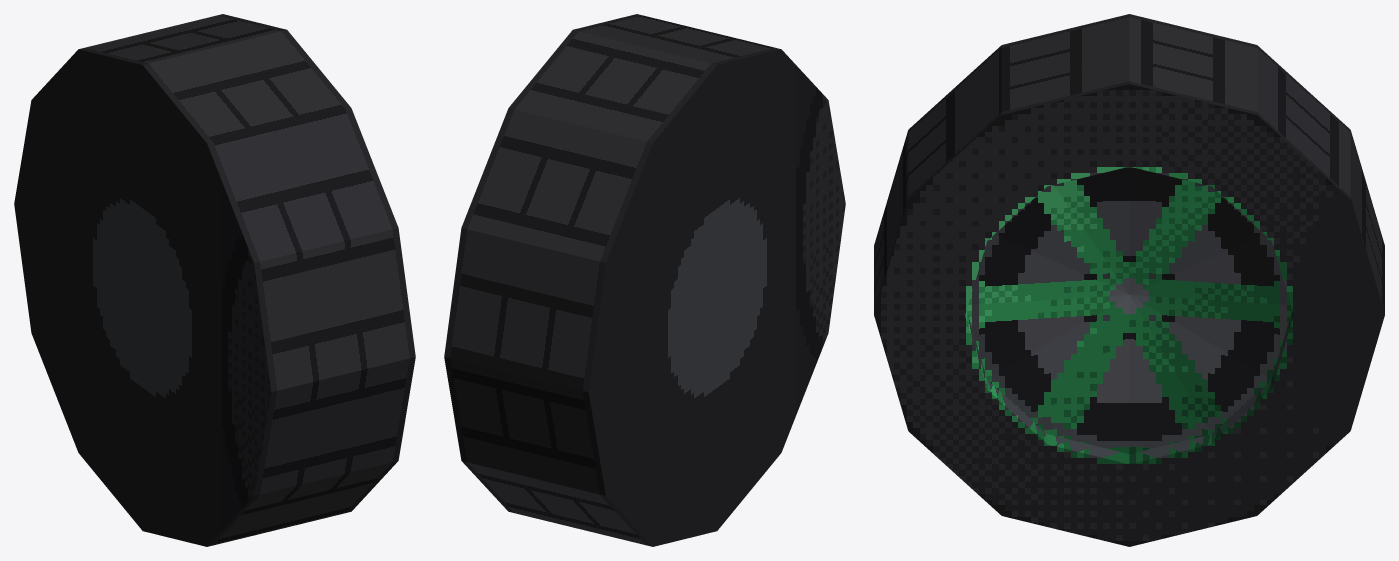
File: wheel_six.glb
3 renders of one model, left to right at view 1: azimuth 30°, elevation 25°; view 2: azimuth 150°, elevation 25°; view 3: azimuth 270°, elevation 25°, orthographic.
Visible parts, largest first — view 1: wheel_six; view 2: wheel_six; view 3: wheel_six.
Part boxes in pixels (left/top/right/bottom): wheel_six: left=14, top=14, right=415, bottom=546; wheel_six: left=444, top=14, right=845, bottom=546; wheel_six: left=874, top=14, right=1384, bottom=546.
Bounding box in the file's own units: 0.205 × 0.6319 × 0.6319.
1 material, 1 textured.
